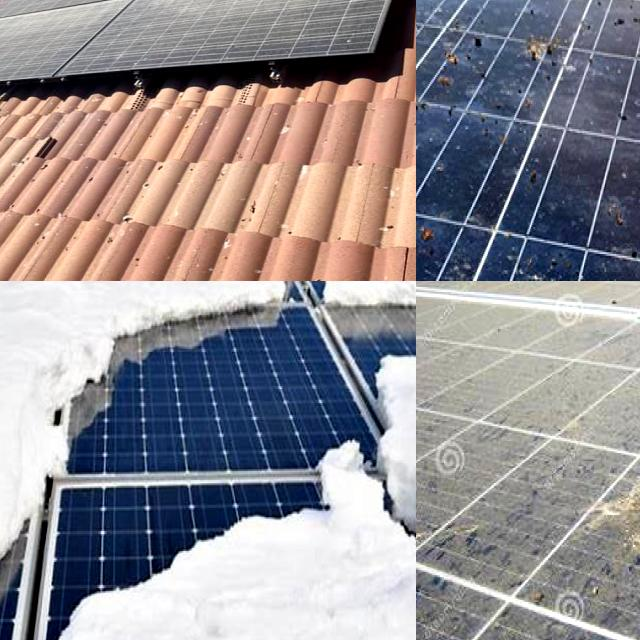bird: (569, 449, 640, 616), (519, 24, 566, 82), (510, 244, 582, 281), (416, 197, 439, 281), (416, 121, 445, 180), (416, 70, 443, 125), (416, 206, 443, 260), (603, 11, 640, 46), (548, 0, 604, 23), (449, 0, 505, 18), (416, 12, 436, 46), (436, 64, 456, 94), (416, 0, 445, 20), (416, 0, 438, 26), (416, 0, 437, 21), (416, 0, 433, 9)
dust: (127, 0, 365, 47), (0, 0, 127, 72), (191, 0, 385, 25), (270, 0, 416, 25), (102, 0, 180, 42), (191, 0, 257, 15)
panel: (166, 468, 314, 582), (316, 443, 416, 565), (33, 550, 140, 640), (54, 338, 116, 492), (361, 312, 416, 434), (0, 474, 76, 559), (95, 290, 209, 338), (230, 281, 302, 356), (315, 281, 416, 330), (252, 281, 409, 310), (0, 563, 41, 640), (103, 281, 234, 303), (0, 281, 73, 301)
